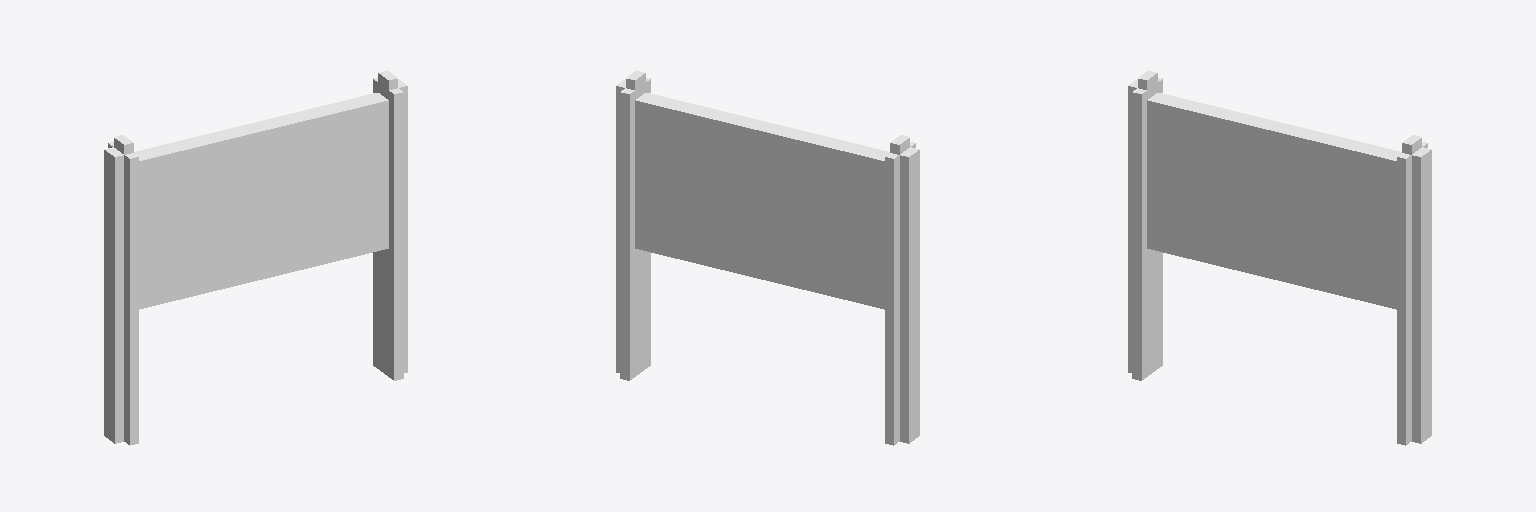
File: industrial.obj
3 views of the same model, side by side, from view 1: azimuth 30°, elevation 25°; view 2: azimuth 150°, elevation 25°; view 3: azimuth 330°, elevation 25° (orthographic).
Parts seen in each view (by area): view 1: object 1; view 2: object 1; view 3: object 1.
Part boxes in pixels (x1,y1,x2,y2): object 1: (104, 70, 407, 445); object 1: (616, 70, 919, 445); object 1: (1128, 70, 1431, 445).
Bounding box in the file's own units: 3.1 × 3 × 0.4.